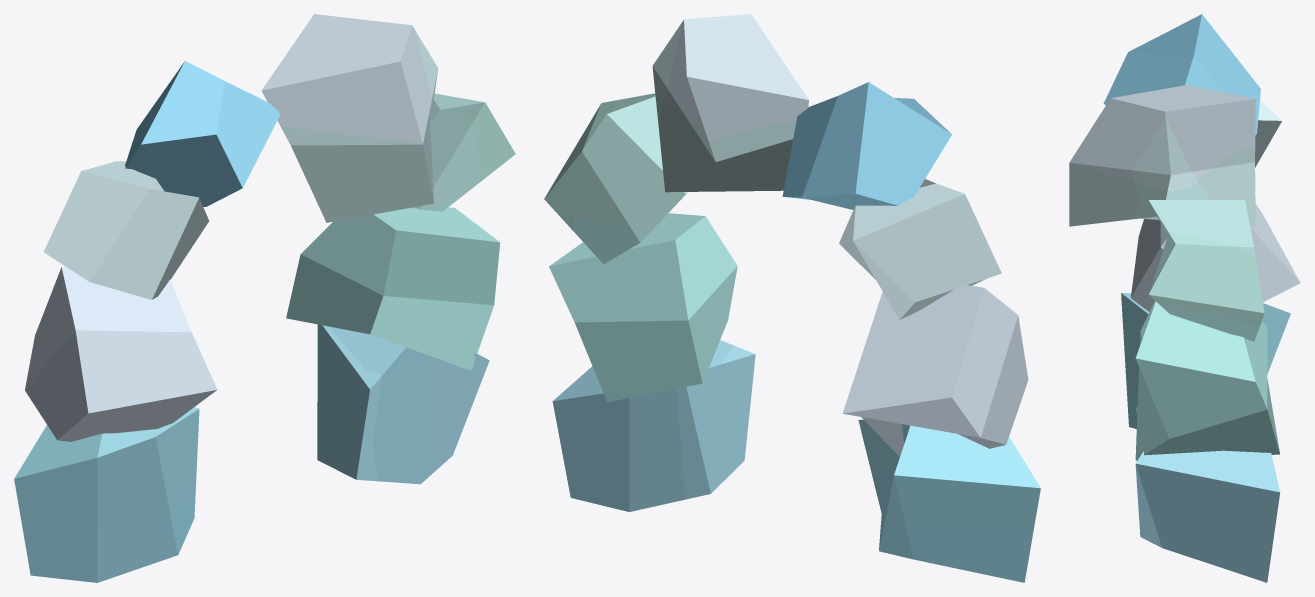
File: SS_IceEntrance.fbx
3 renders of one model, left to right at view 1: azimuth 30°, elevation 25°; view 2: azimuth 150°, elevation 25°; view 3: azimuth 270°, elevation 25°, orthographic. The views are drawn at different scales.
Parts seen in each view (by area): view 1: IceEntrance; view 2: IceEntrance; view 3: IceEntrance.
Boxes of the visible parts, x1=… form: IceEntrance: x1=14, y1=14, x2=515, y2=582; IceEntrance: x1=544, y1=14, x2=1040, y2=582; IceEntrance: x1=1069, y1=14, x2=1300, y2=582.
Size of the model in its own units: 4.92 by 4.69 by 2.17.
